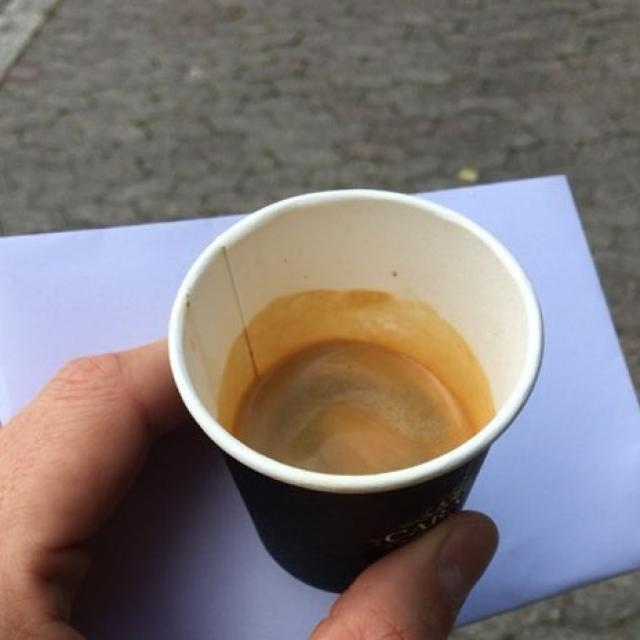espresso: (244, 342, 468, 477)
